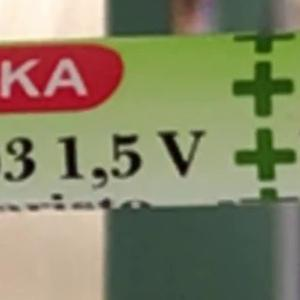keyword: (17, 120, 214, 221)
